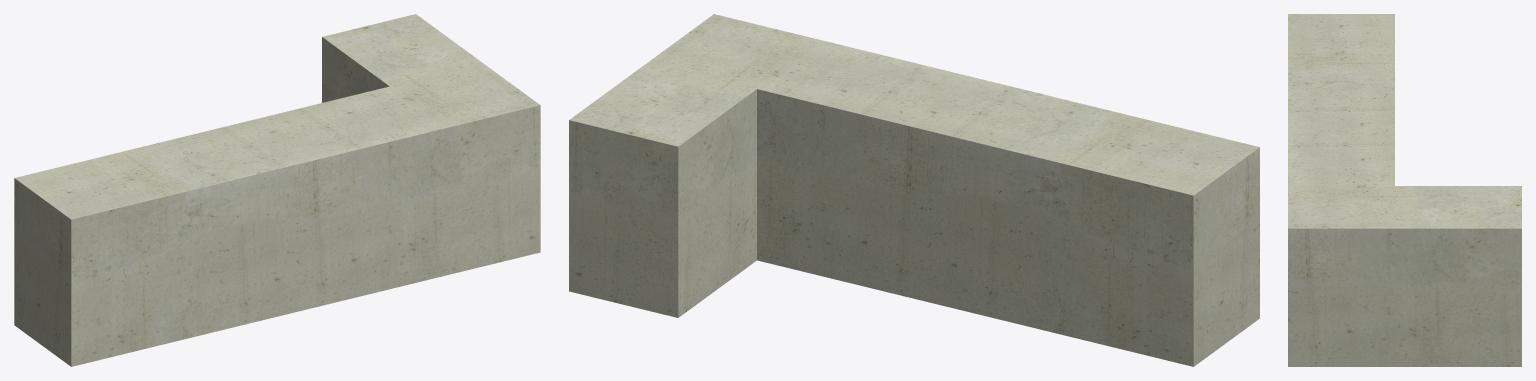
Rendered from security room hallway.fbx.
The picture shows the model from 3 angles, left to right: view 1: azimuth 30°, elevation 25°; view 2: azimuth 150°, elevation 25°; view 3: azimuth 270°, elevation 25°; orthographic projection. The views are drawn at different scales.
Parts seen in each view (by area): view 1: security room hallway; view 2: security room hallway; view 3: security room hallway.
Part boxes in pixels (left/top/right/bottom): security room hallway: left=14, top=14, right=540, bottom=366; security room hallway: left=569, top=14, right=1259, bottom=366; security room hallway: left=1288, top=14, right=1521, bottom=366.
Bounding box in the file's own units: 2000 × 920 × 600.
